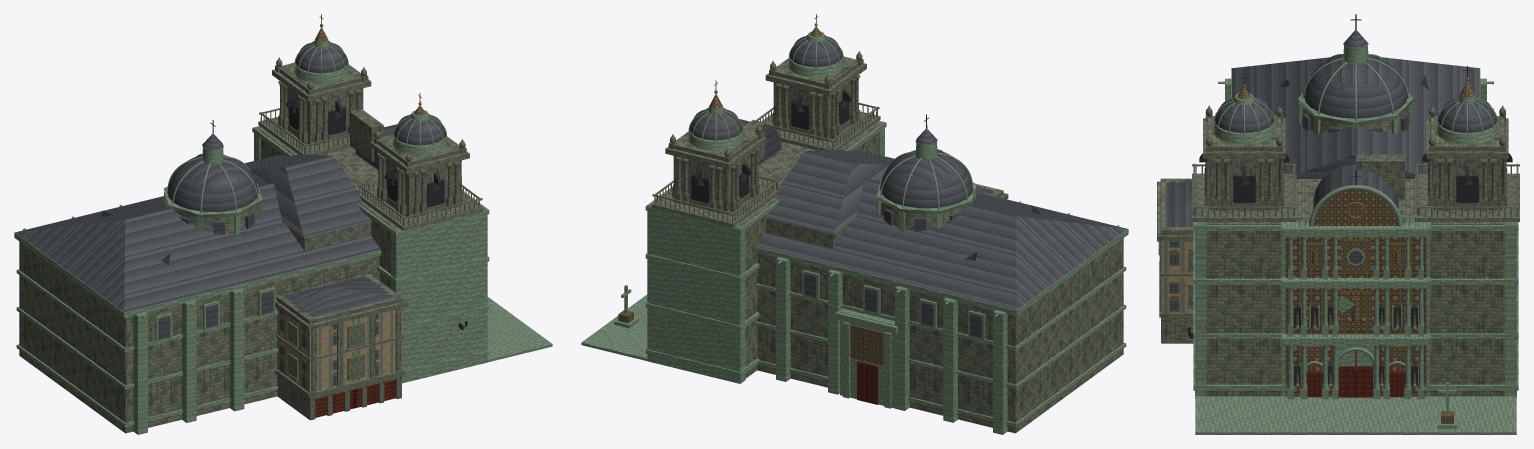
The model's file is catedral_metropolitana.obj.
3 renders of one model, left to right at view 1: azimuth 30°, elevation 25°; view 2: azimuth 150°, elevation 25°; view 3: azimuth 270°, elevation 25°, orthographic. The views are drawn at different scales.
Visible parts, largest first — view 1: Catedral_Nave_Principal, Catedral_Techo_Pizarra_Nave, Mesh_121, Mesh_32479, Mesh_36477, Mesh_32741, Mesh_37357, Mesh_31929, Mesh_36237, Mesh_32345, Mesh_32301, Mesh_32257 (+28 smaller); view 2: Catedral_Nave_Principal, Catedral_Techo_Pizarra_Nave, Mesh_25, Mesh_32479, Mesh_32741, Mesh_31929, Mesh_36237, Catedral_Fuste_Torre_Norte, Mesh_31985, Mesh_31941, Mesh_32117, Mesh_32029 (+30 smaller); view 3: Mesh_36237, Catedral_Fuste_Torre_Sur, Catedral_Fuste_Torre_Norte, Catedral_Techo_Pizarra_Nave, Mesh_253, Mesh_32741, Mesh_32479, Mesh_11849, Mesh_23877, Mesh_22185, Mesh_12981, Cornisa_Retablo_Nivel_3 (+45 smaller).
Part boxes in pixels (x1,y1,x2,y2): Catedral_Nave_Principal: (19,241,379,433); Catedral_Techo_Pizarra_Nave: (15,183,380,312); Mesh_121: (391,205,487,383); Mesh_32479: (245,154,371,237); Mesh_36477: (277,308,401,392); Mesh_32741: (167,155,258,211); Mesh_37357: (284,276,393,317); Mesh_31929: (14,196,381,317); Mesh_36237: (487,297,552,362); Mesh_32345: (229,288,244,411); Mesh_32301: (182,300,196,422); Mesh_32257: (133,312,147,434); Catedral_Nave_Principal: (757,238,1123,433); Catedral_Techo_Pizarra_Nave: (756,179,1127,310); Mesh_25: (647,201,745,383); Mesh_32479: (765,149,894,234); Mesh_32741: (880,150,972,208); Mesh_31929: (755,192,1128,315); Mesh_36237: (581,294,647,360); Catedral_Fuste_Torre_Norte: (650,190,777,378); Mesh_31985: (943,297,957,422); Mesh_31941: (993,310,1007,434); Mesh_32117: (776,257,790,381); Mesh_32029: (895,286,909,410); Mesh_36237: (1195,396,1516,434); Catedral_Fuste_Torre_Sur: (1199,222,1285,396); Catedral_Fuste_Torre_Norte: (1430,222,1515,396); Catedral_Techo_Pizarra_Nave: (1232,57,1479,141); Mesh_253: (1285,237,1426,396); Mesh_32741: (1304,55,1407,118); Mesh_32479: (1283,128,1428,178); Mesh_11849: (1314,189,1397,225); Mesh_23877: (1209,158,1278,210); Mesh_22185: (1192,173,1296,221); Mesh_12981: (1415,173,1519,221); Cornisa_Retablo_Nivel_3: (1281,222,1430,237).
Bounding box in the file's own units: 48.36 × 30.43 × 32.53.
Materials: 8 (8 with a texture image).
